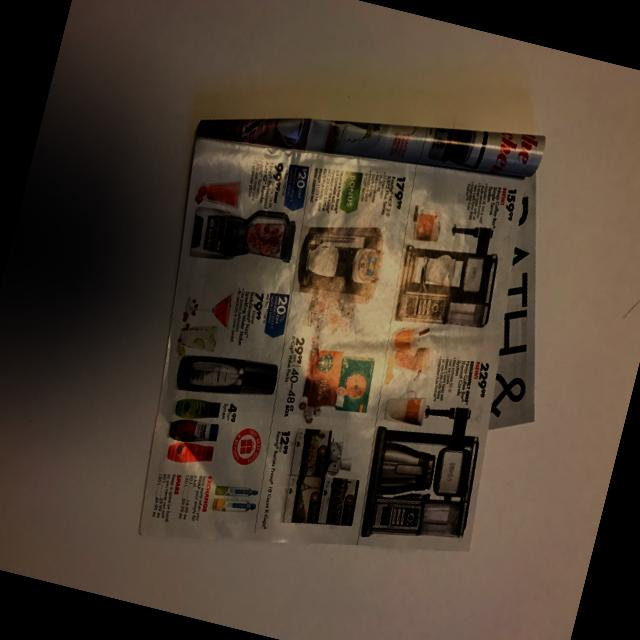Paper: (94, 49, 604, 628)
